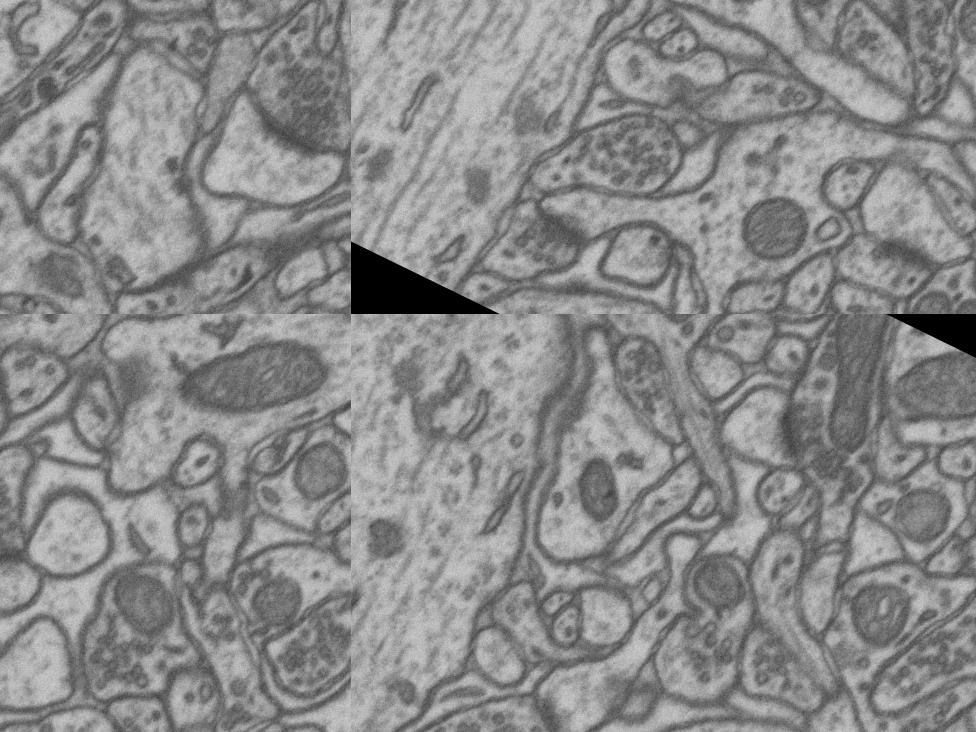mitochondria: (132, 314, 320, 475), (775, 314, 930, 466), (716, 168, 835, 292), (872, 325, 976, 465), (828, 558, 934, 672), (96, 568, 208, 672), (871, 461, 974, 565), (552, 430, 646, 530), (676, 544, 773, 636), (274, 422, 351, 517), (235, 564, 319, 648), (890, 265, 976, 314), (938, 0, 976, 79), (772, 0, 861, 33), (942, 281, 976, 314)
